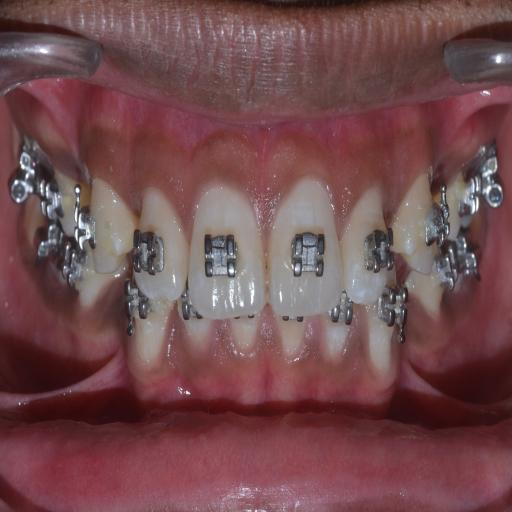correct_brace: (288, 214, 332, 286), (203, 224, 241, 286), (134, 223, 167, 279), (362, 222, 392, 278)
incorrect_brace: (134, 189, 188, 297), (346, 185, 394, 301)
